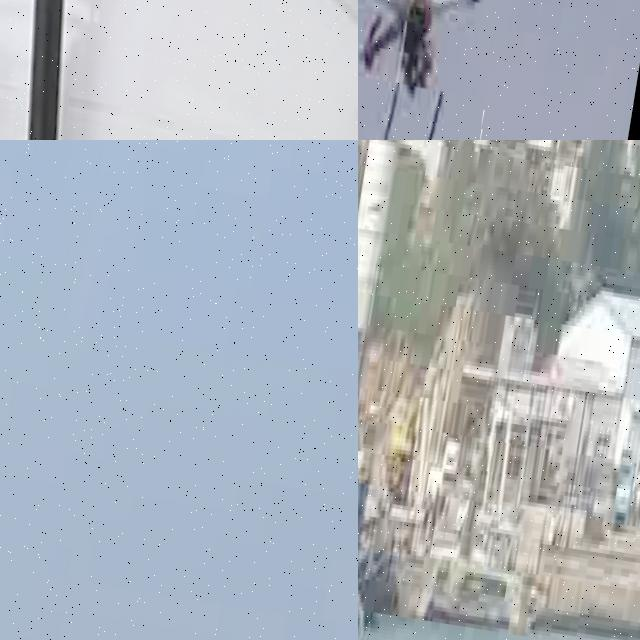0: (358, 0, 540, 140)
drone: (0, 0, 358, 140)
